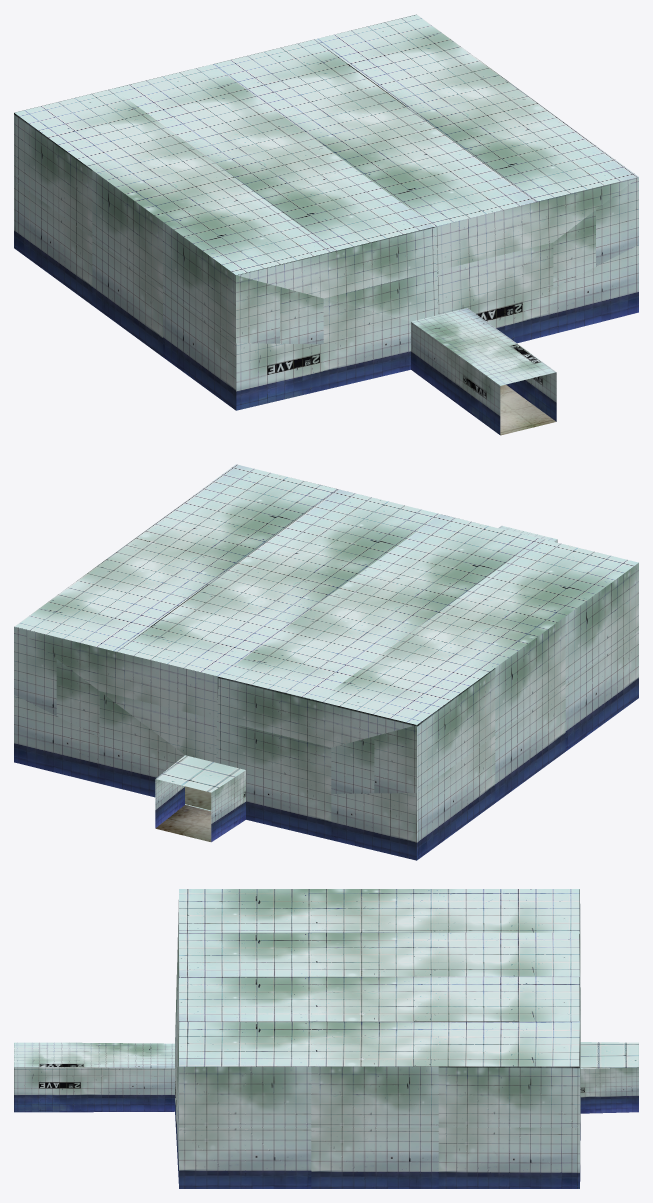
The model's file is metro big room (1).fbx.
3 renders of one model, top to bottom at view 1: azimuth 30°, elevation 25°; view 2: azimuth 150°, elevation 25°; view 3: azimuth 270°, elevation 25°, orthographic. The views are drawn at different scales.
Parts seen in each view (by area): view 1: Big room; view 2: Big room; view 3: Big room.
Boxes of the visible parts, <box> form: Big room: <box>14,14,638,435</box>; Big room: <box>14,464,638,860</box>; Big room: <box>14,889,638,1188</box>.
Size of the model in its own units: 10240 by 2218 by 6880.
